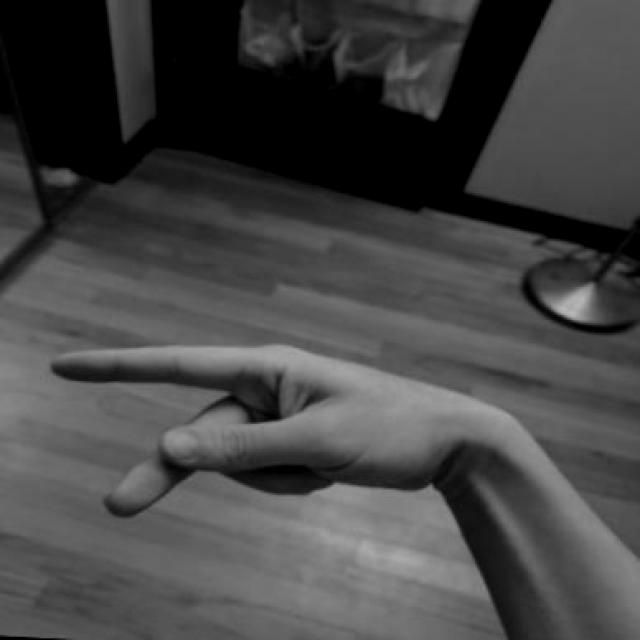P: (37, 307, 517, 534)
